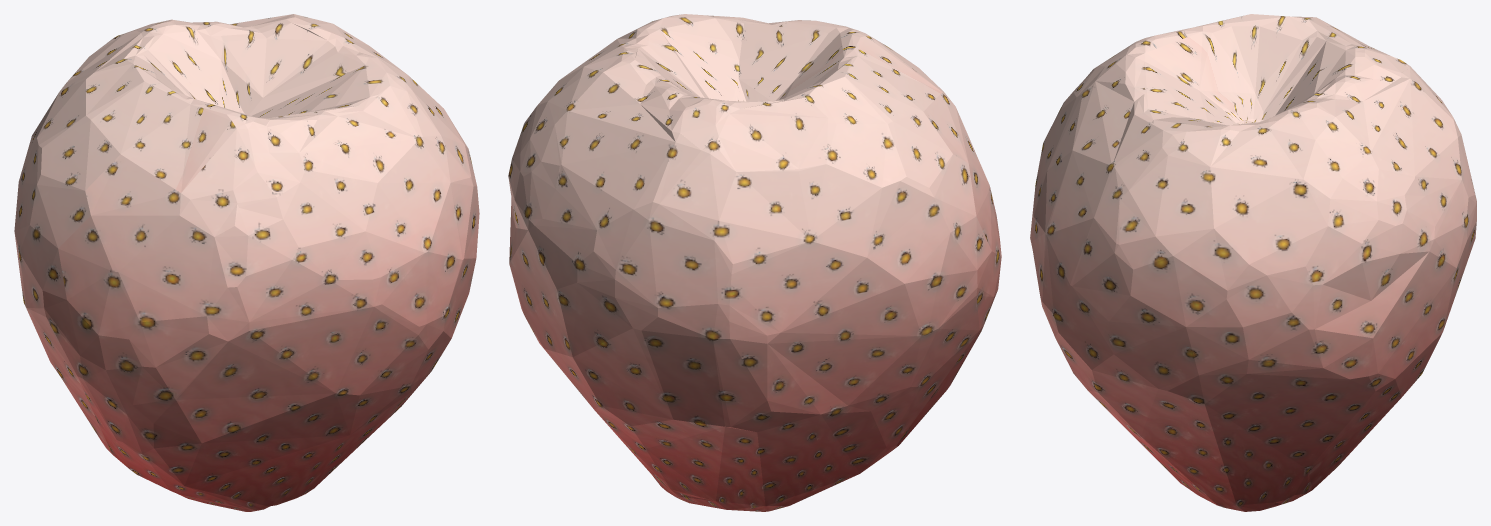
3 renders of one model, left to right at view 1: azimuth 30°, elevation 25°; view 2: azimuth 150°, elevation 25°; view 3: azimuth 270°, elevation 25°, orthographic. The views are drawn at different scales.
Visible parts, largest first — view 1: _000_Meshed; view 2: _000_Meshed; view 3: _000_Meshed.
Boxes of the visible parts, x1,y1,x2,y2 form: _000_Meshed: (14, 14, 479, 511); _000_Meshed: (508, 14, 1001, 511); _000_Meshed: (1030, 14, 1476, 511).
Bounding box in the file's own units: 0.1127 × 0.1067 × 0.1146.
1 material, 1 textured.
